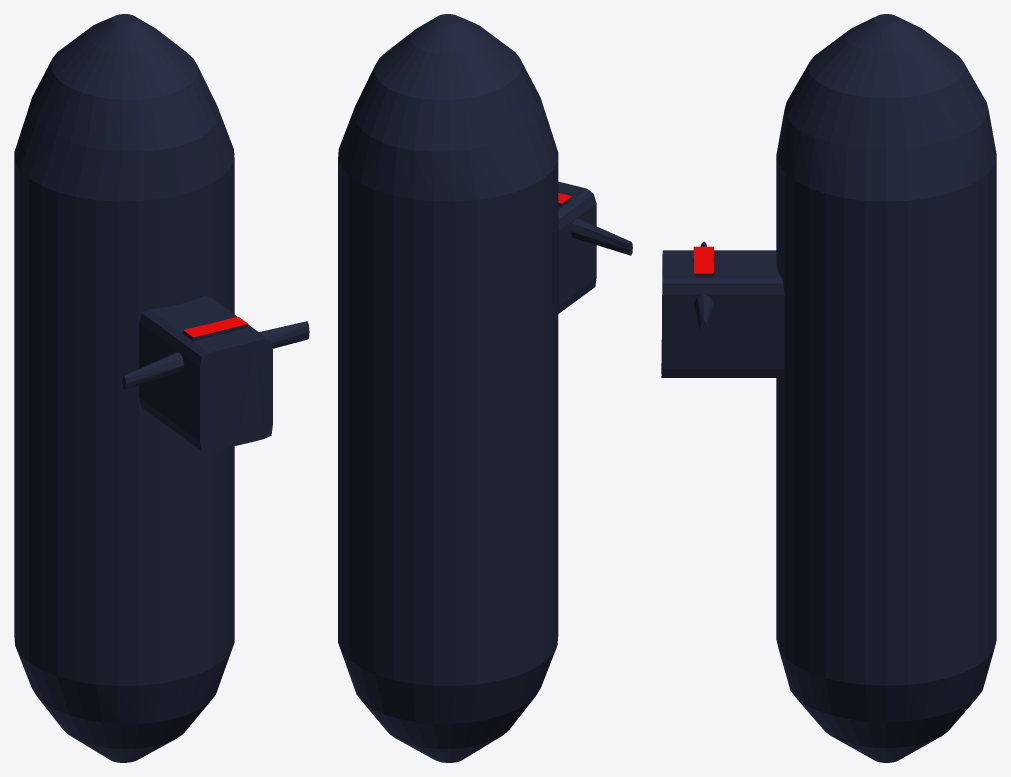
File: sub_data.obj
3 renders of one model, left to right at view 1: azimuth 30°, elevation 25°; view 2: azimuth 150°, elevation 25°; view 3: azimuth 270°, elevation 25°, orthographic.
Parts seen in each view (by area): view 1: Cylinder; view 2: Cylinder; view 3: Cylinder.
Part boxes in pixels (x1,y1,x2,y2): Cylinder: [14, 14, 309, 762]; Cylinder: [338, 14, 632, 762]; Cylinder: [661, 14, 996, 762].
Size of the model in its own units: 0.7254 by 2.67 by 1.1.
Materials: 2 (2 with a texture image).
